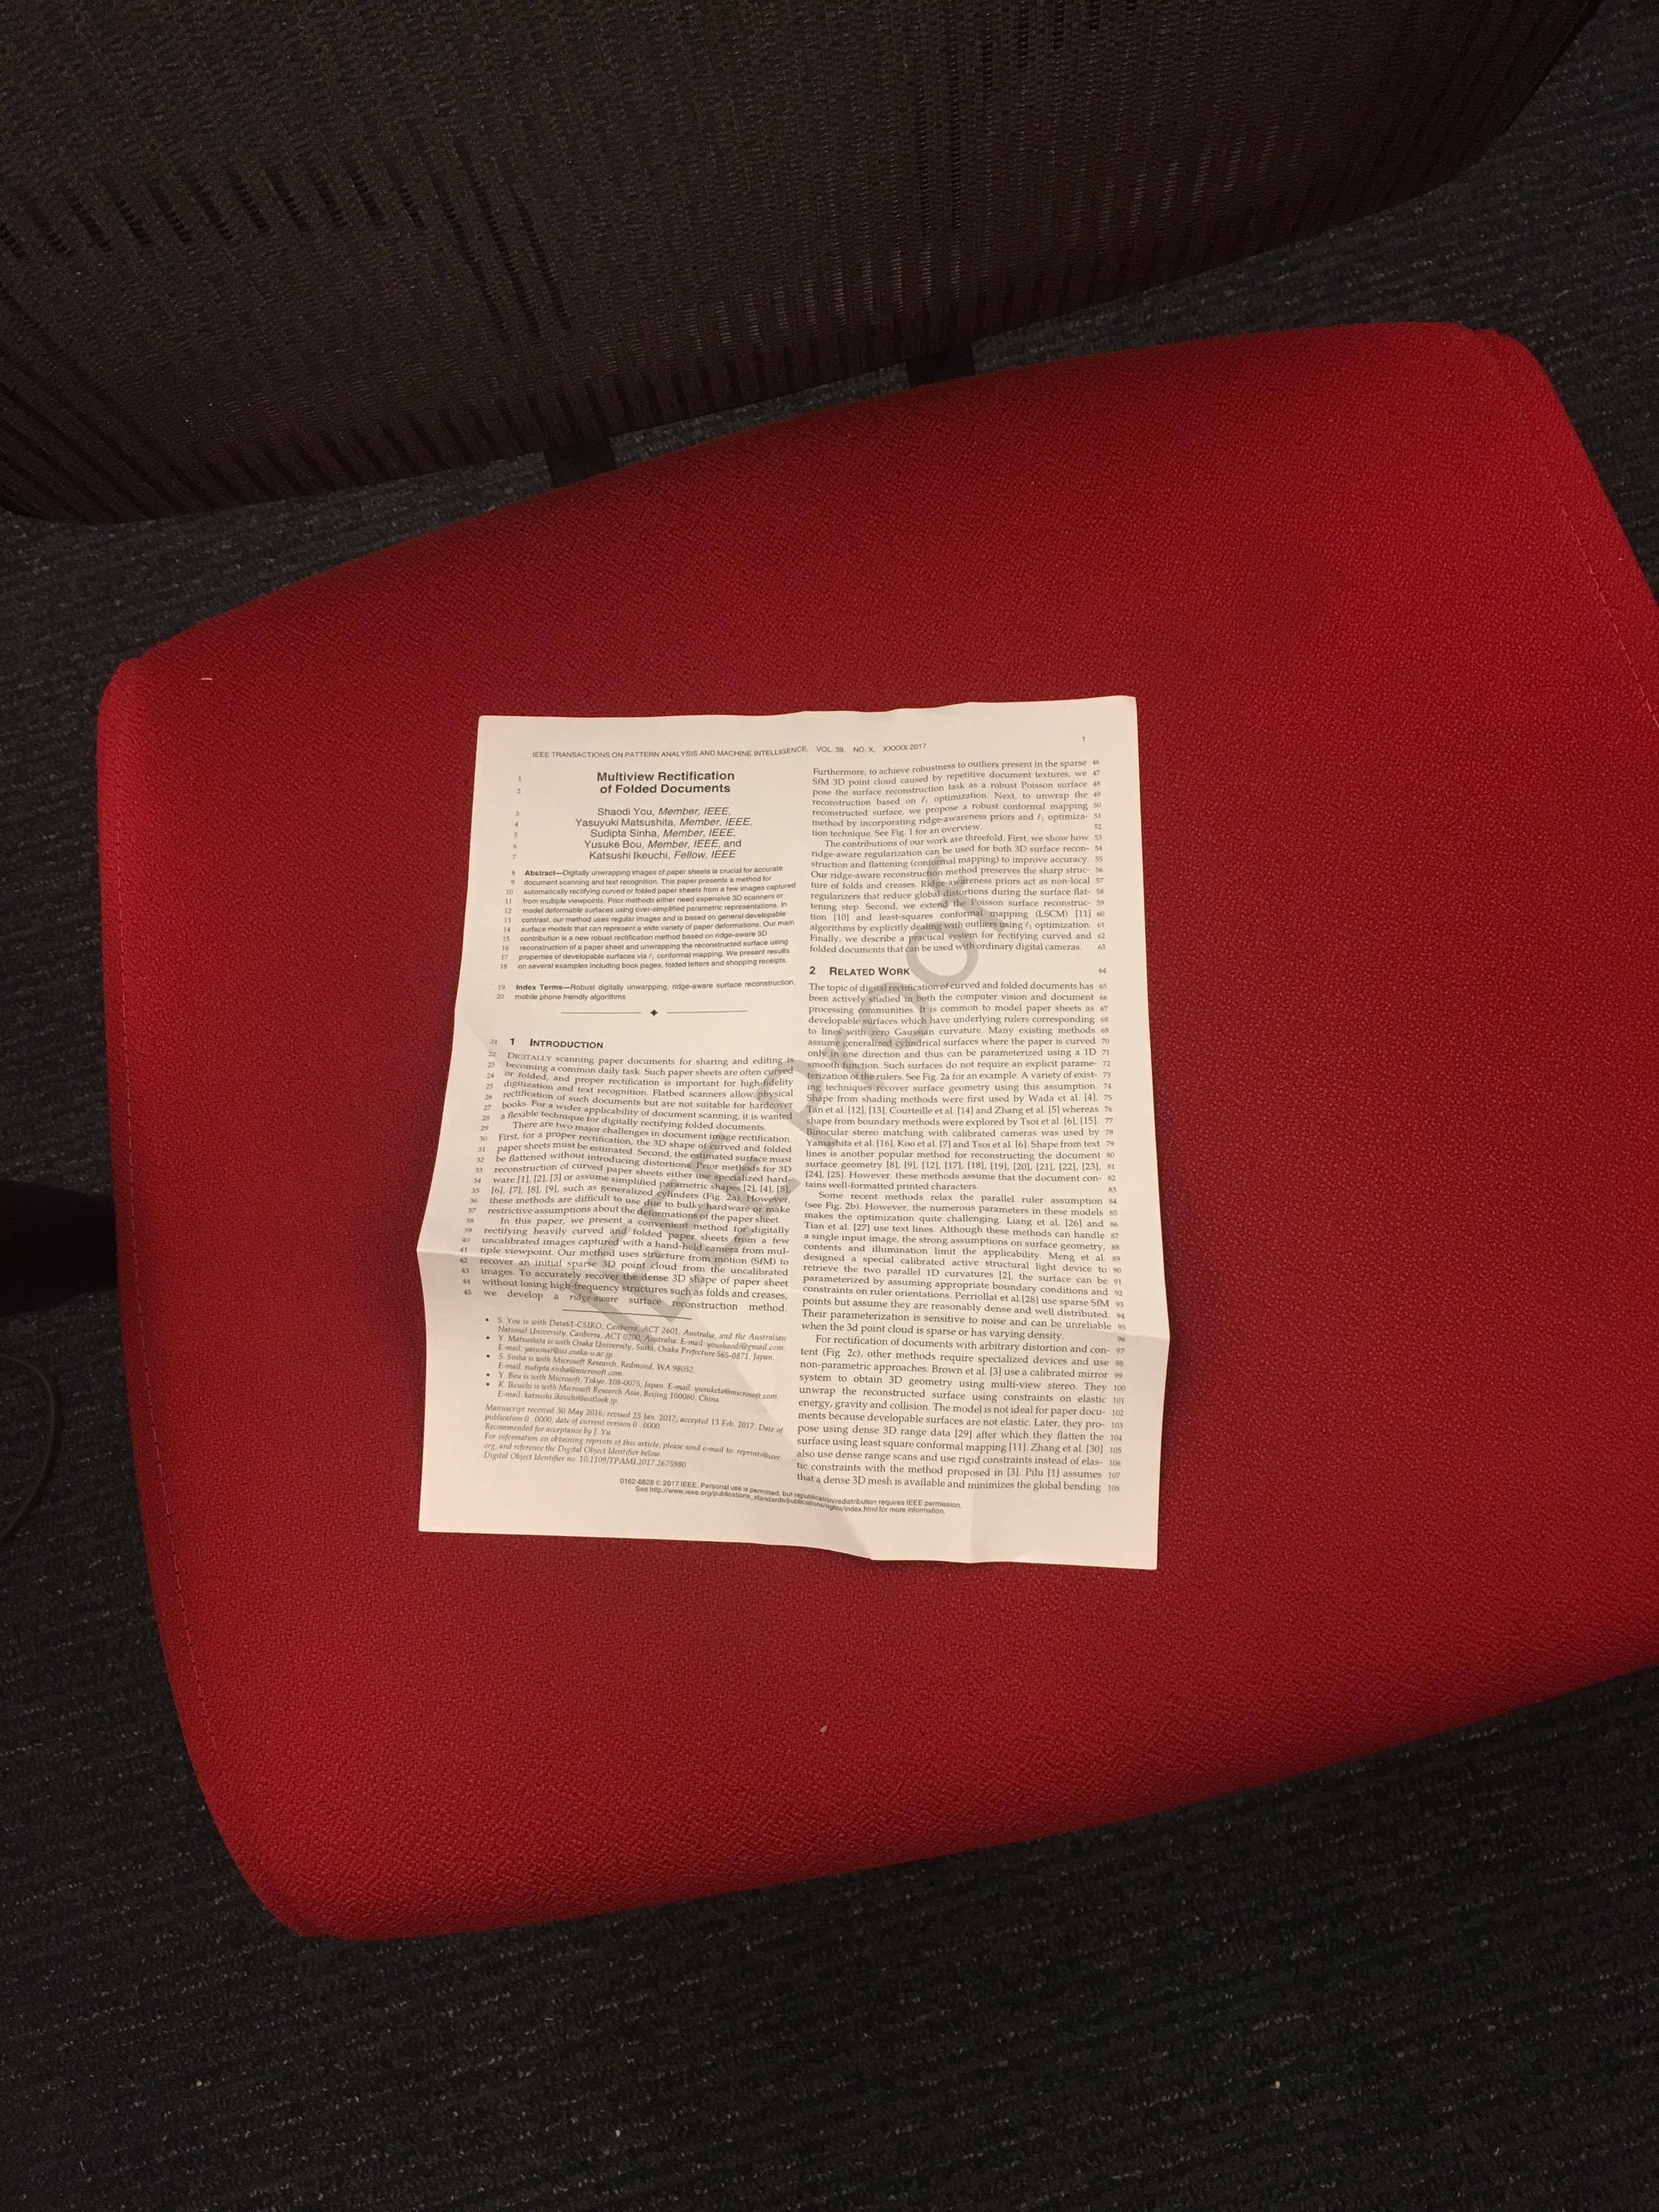paper: (286, 583, 1241, 1717)
